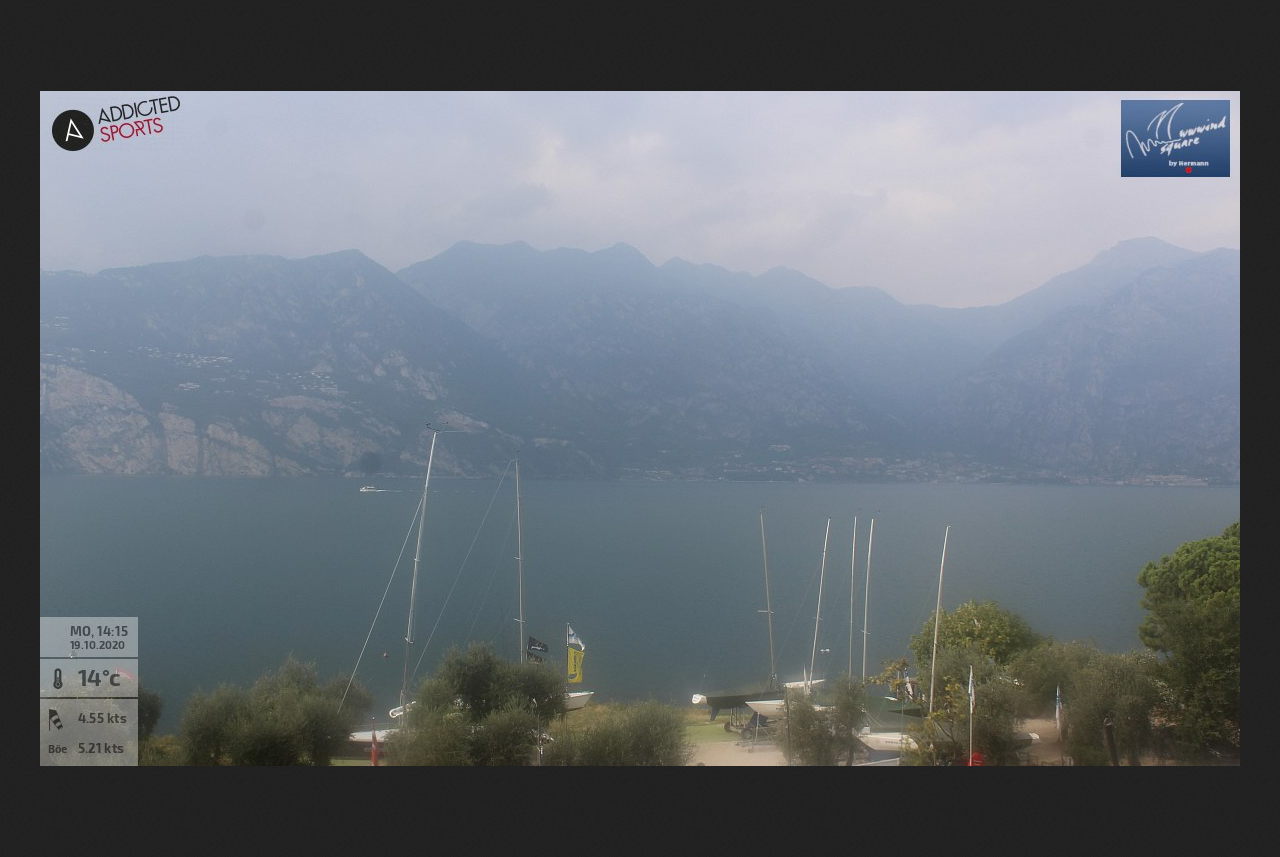maybe: (563, 620, 590, 649)
no: (963, 661, 980, 711)
yes: (562, 645, 587, 680), (521, 645, 549, 667), (525, 629, 552, 651)
